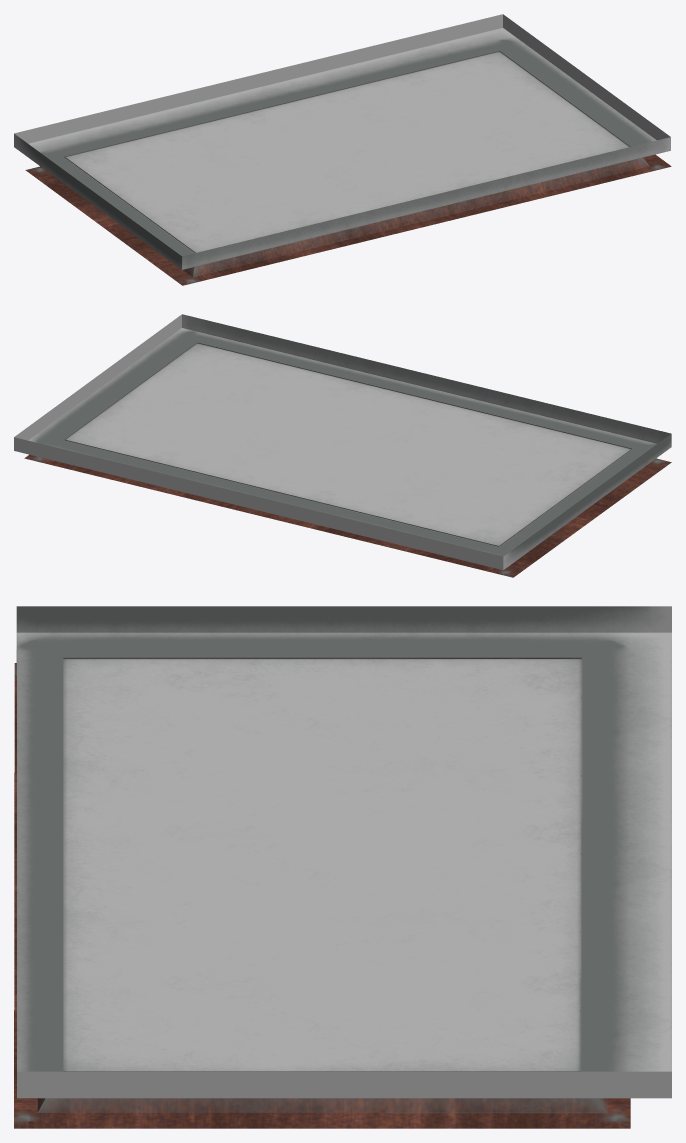
File: SM_Wash_Roof.fbx
3 renders of one model, top to bottom at view 1: azimuth 30°, elevation 25°; view 2: azimuth 150°, elevation 25°; view 3: azimuth 270°, elevation 25°, orthographic. The views are drawn at different scales.
Visible parts, largest first — view 1: SM_Wash_Roof; view 2: SM_Wash_Roof; view 3: SM_Wash_Roof.
Boxes of the visible parts, box(x1,y1,x2,y2) form: SM_Wash_Roof: box(14, 14, 671, 285); SM_Wash_Roof: box(14, 314, 671, 577); SM_Wash_Roof: box(14, 606, 671, 1128).
Size of the model in its own units: 156 by 93.3 by 8.88.
Materials: 1 (1 with a texture image).
